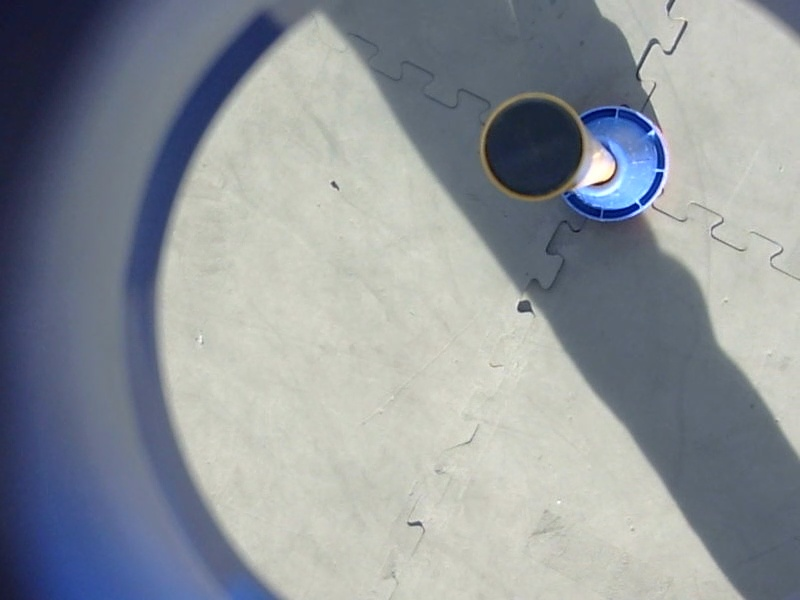tip: (469, 86, 591, 210)
